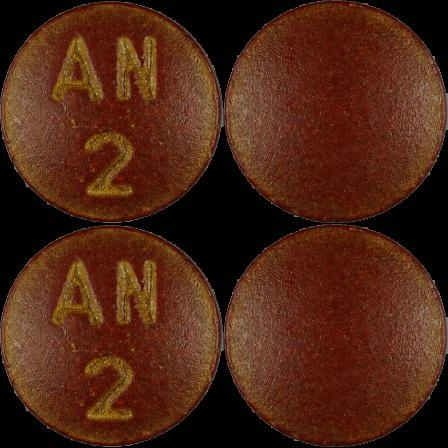51655-154: (0, 0, 224, 224)
